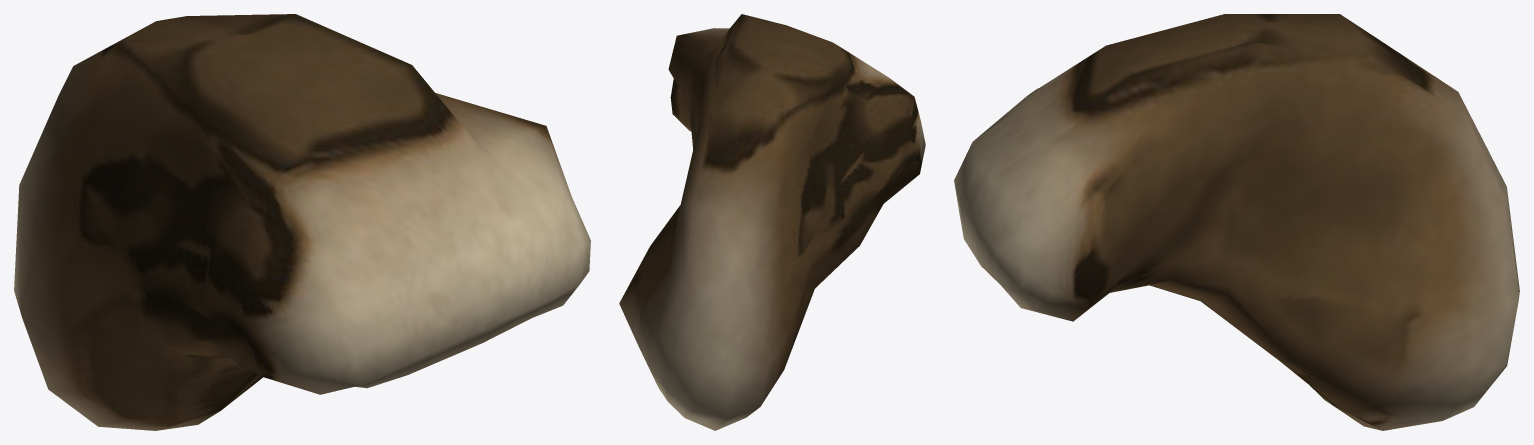
Rendered from Distal_Carpal_III.glb.
3 views of the same model, side by side, from view 1: azimuth 30°, elevation 25°; view 2: azimuth 150°, elevation 25°; view 3: azimuth 270°, elevation 25° (orthographic). The views are drawn at different scales.
Parts seen in each view (by area): view 1: Distal_Carpal_III_Left1:Group8594; view 2: Distal_Carpal_III_Left1:Group8594; view 3: Distal_Carpal_III_Left1:Group8594.
Part boxes in pixels (x1,y1,x2,y2): Distal_Carpal_III_Left1:Group8594: (14,14,590,430); Distal_Carpal_III_Left1:Group8594: (619,14,925,430); Distal_Carpal_III_Left1:Group8594: (954,14,1519,430).
Size of the model in its own units: 8.79 by 11.07 by 13.91.
Materials: 1 (1 with a texture image).
